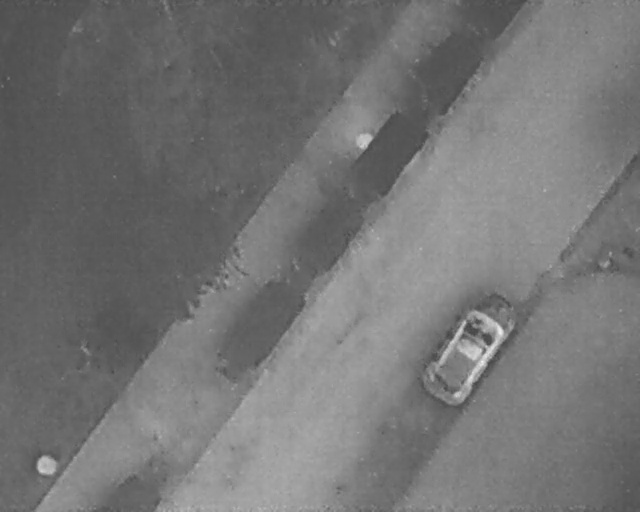Car: (412, 277, 527, 414)
